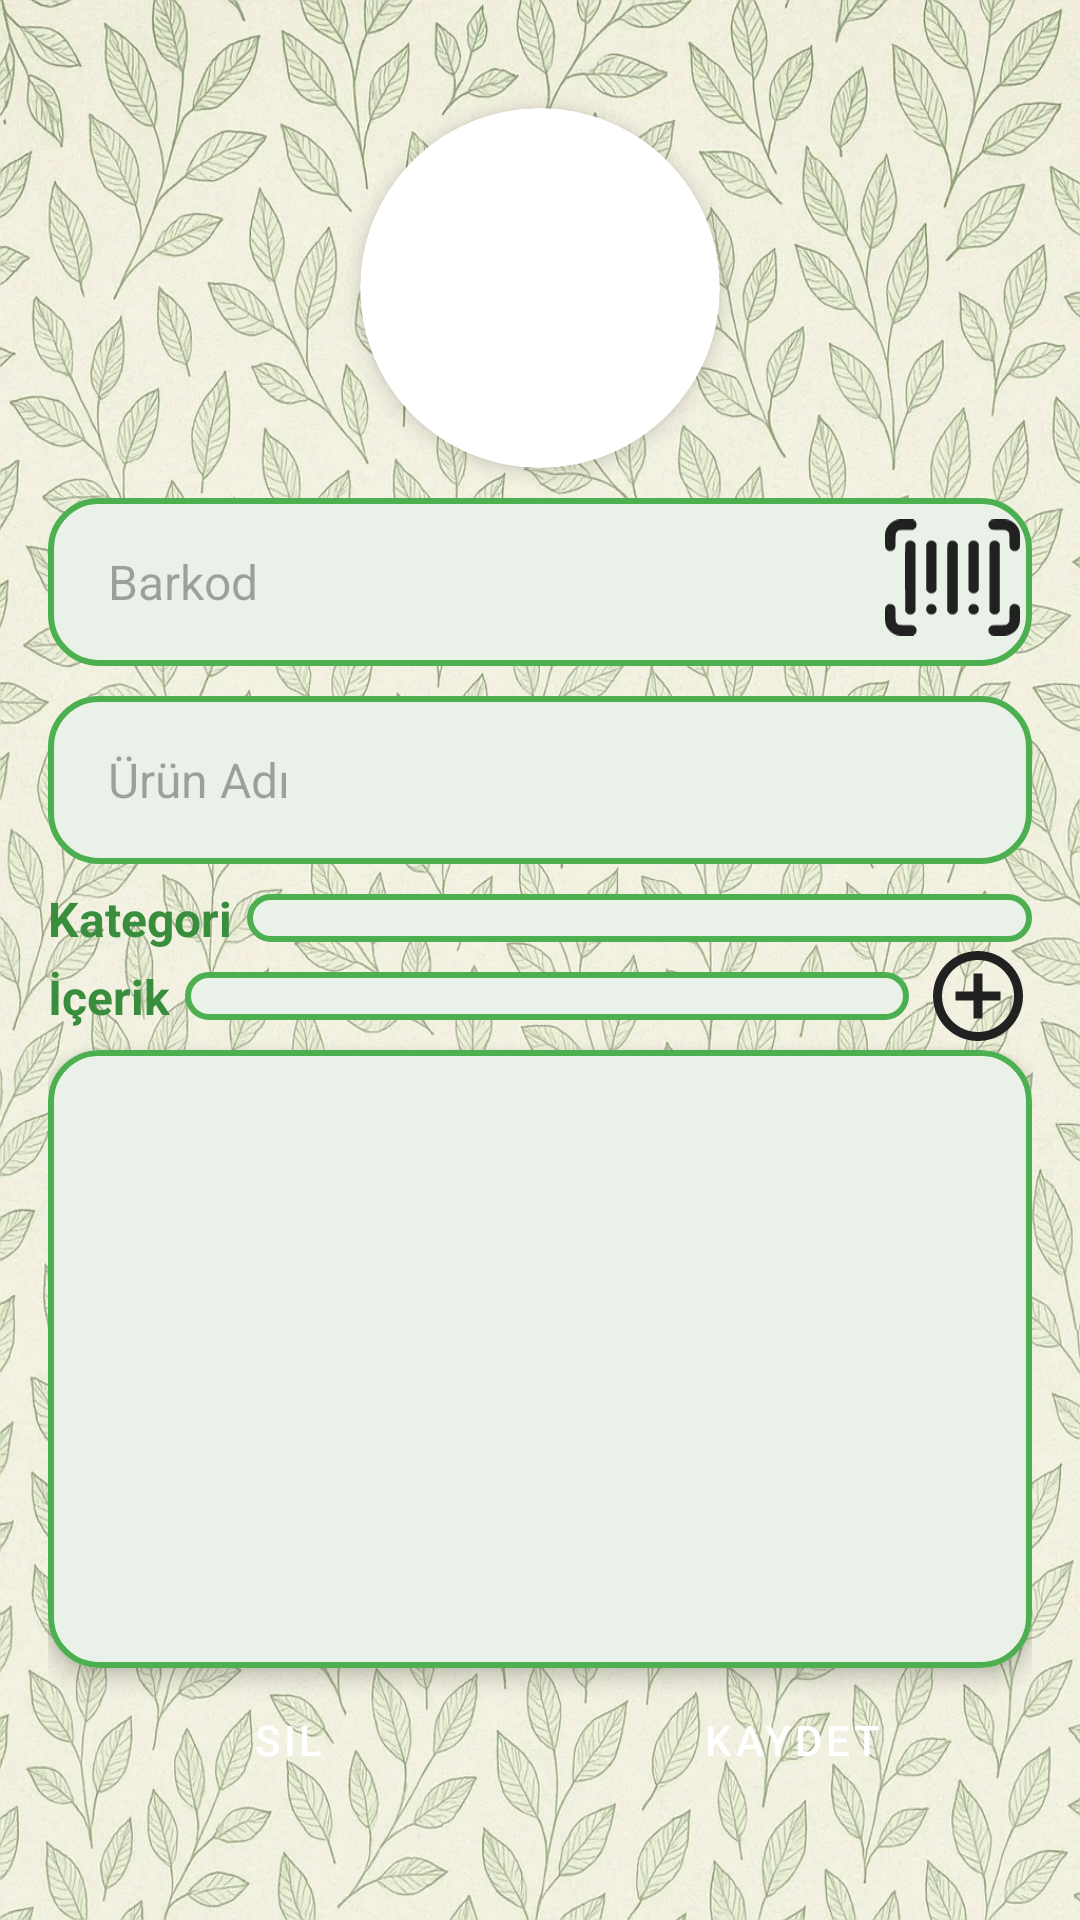

Icon click points for this 1080 x 1920 phone screenshot, format point (x, y):
add: point (978, 996)
barcode reader: point (952, 577)
